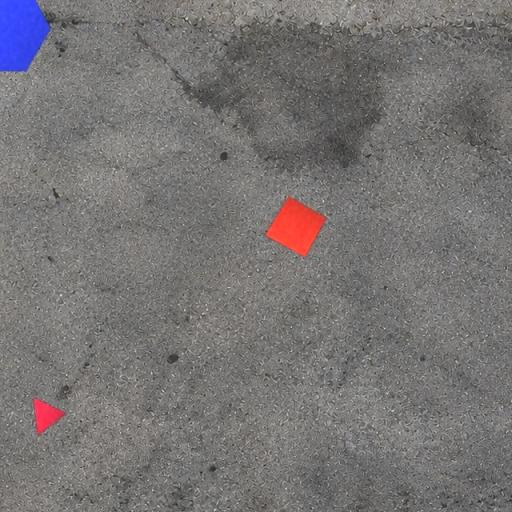RED_SQUARE: (264, 196, 327, 258)
